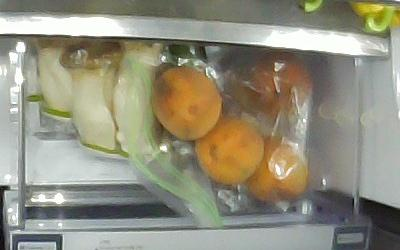peach: (152, 68, 222, 140), (195, 117, 265, 186)
peach_vinyl: (246, 135, 309, 202), (247, 54, 311, 115)
